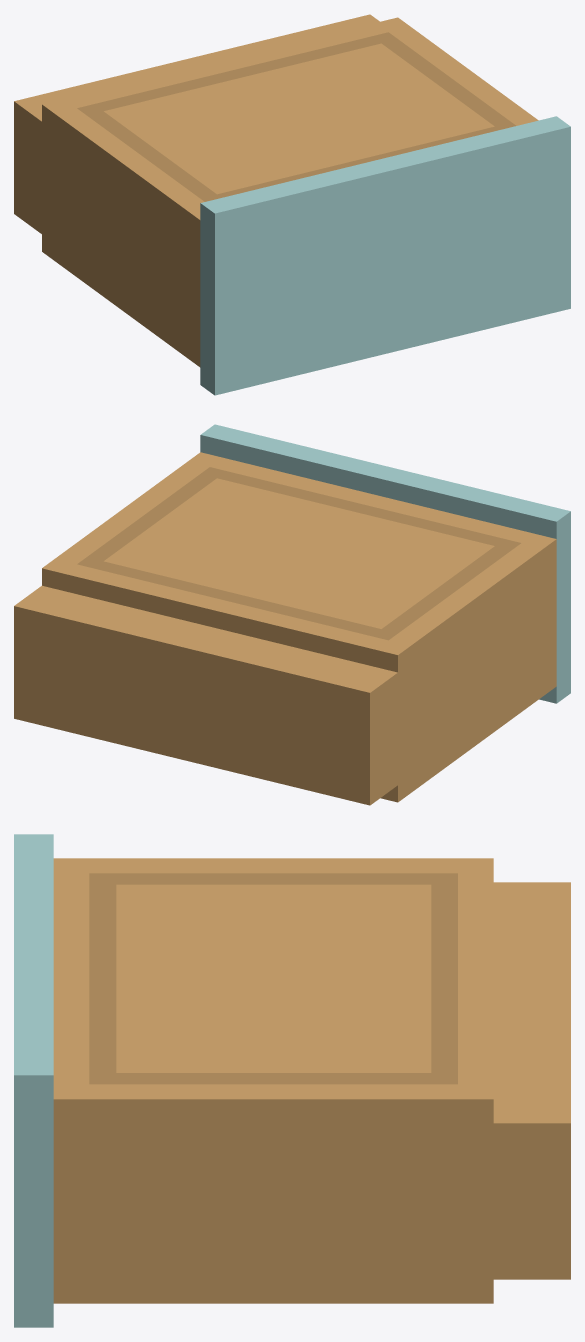
The model's file is bar-counter.obj.
The picture shows the model from 3 angles, top to bottom: view 1: azimuth 30°, elevation 25°; view 2: azimuth 150°, elevation 25°; view 3: azimuth 270°, elevation 25°; orthographic projection. The views are drawn at different scales.
Visible parts, largest first — view 1: bar-counter; view 2: bar-counter; view 3: bar-counter.
Boxes of the visible parts, <box> form: bar-counter: <box>14,14,570,395</box>; bar-counter: <box>14,424,570,805</box>; bar-counter: <box>14,834,570,1327</box>.
Bounding box in the file's own units: 36.86 × 18 × 36.
